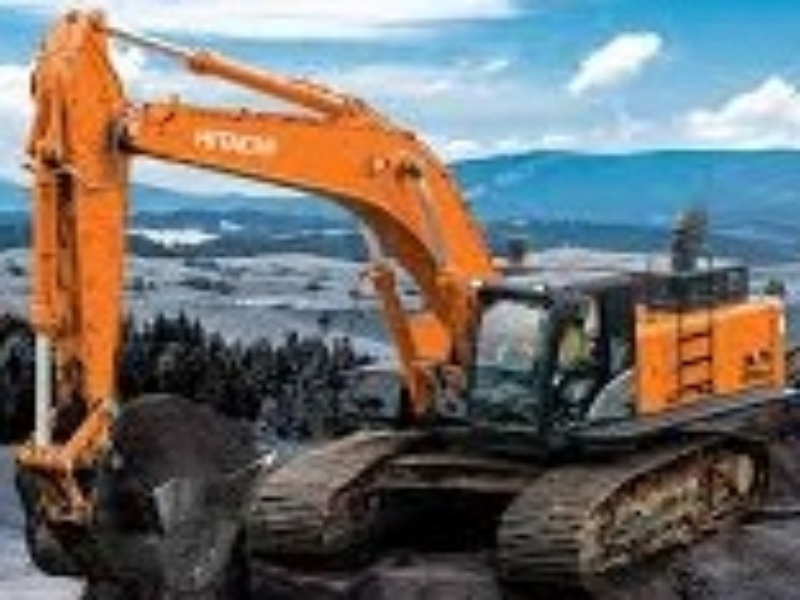wajueji: (194, 91, 800, 582)
